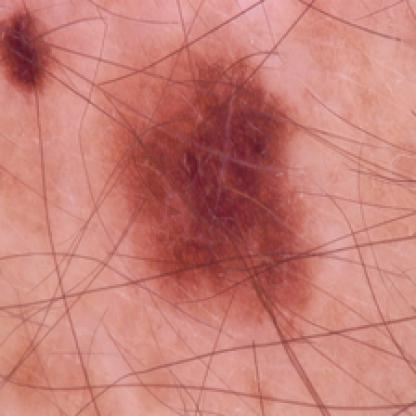benign: (0, 2, 379, 332)
